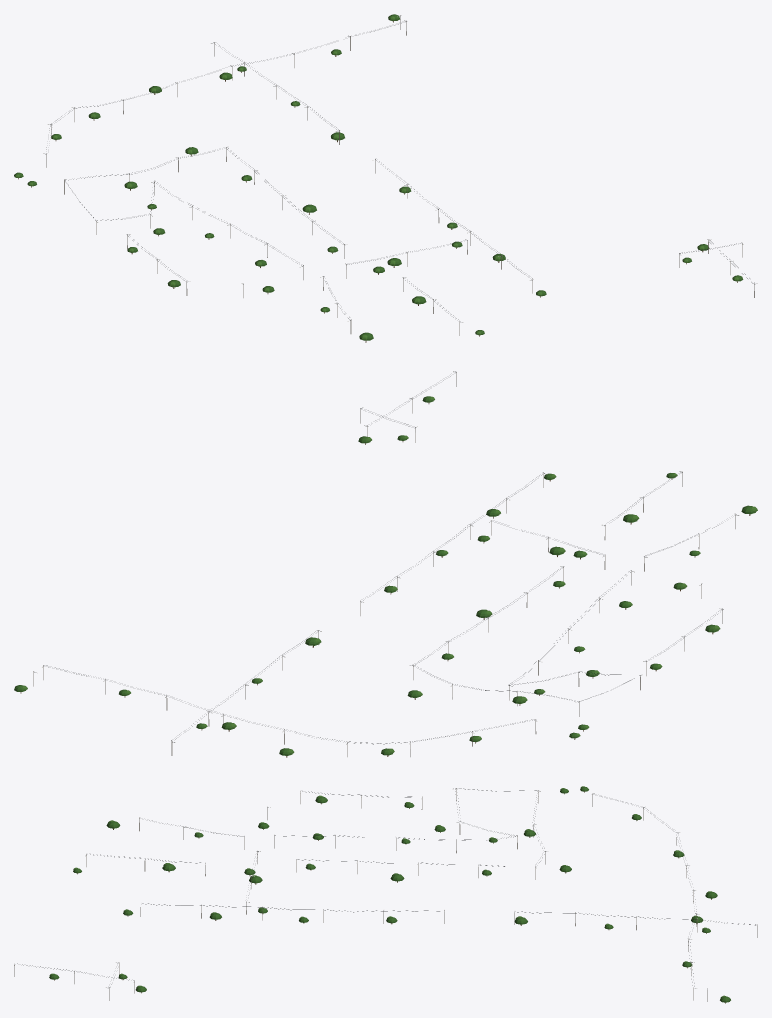
Rendered from n1_poles_6.glb.
3 renders of one model, top to bottom at view 1: azimuth 30°, elevation 25°; view 2: azimuth 150°, elevation 25°; view 3: azimuth 270°, elevation 25°, orthographic. The views are drawn at different scales.
Parts seen in each view (by area): view 1: n1_poles_6_lod0; view 2: n1_poles_6_lod0; view 3: n1_poles_6_lod0.
Boxes of the visible parts, box(x1,y1,x2,y2) form: n1_poles_6_lod0: box(14, 14, 757, 342); n1_poles_6_lod0: box(14, 371, 757, 757); n1_poles_6_lod0: box(14, 786, 757, 1003).
Size of what is drawn, in the model's own units: 310 by 23.75 by 465.
